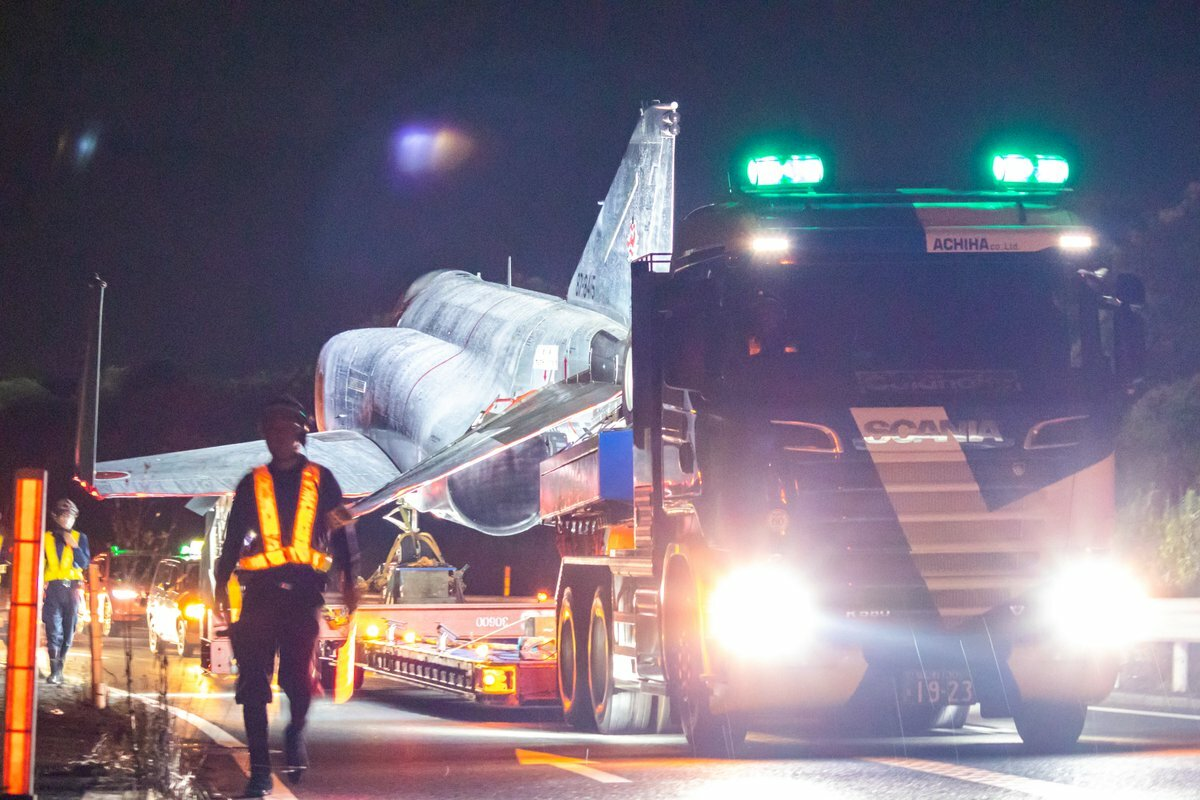F4: (70, 98, 681, 604)
